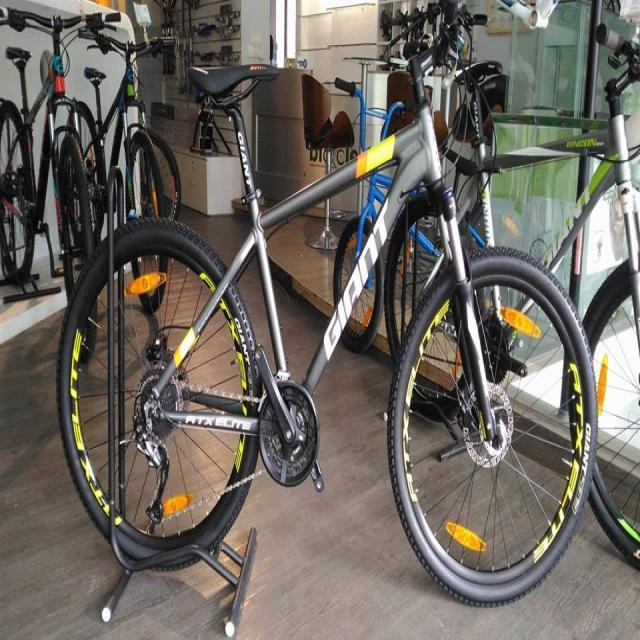Bicycle: (55, 13, 597, 635)
